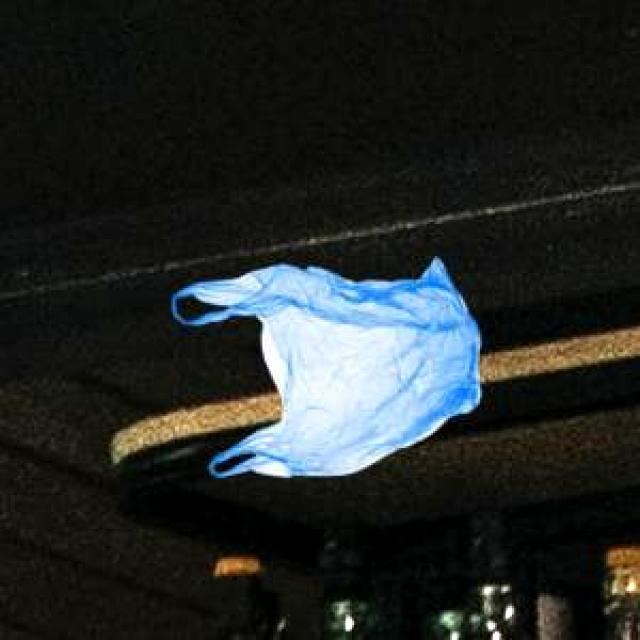Plastic_Bag: (172, 255, 477, 472)
